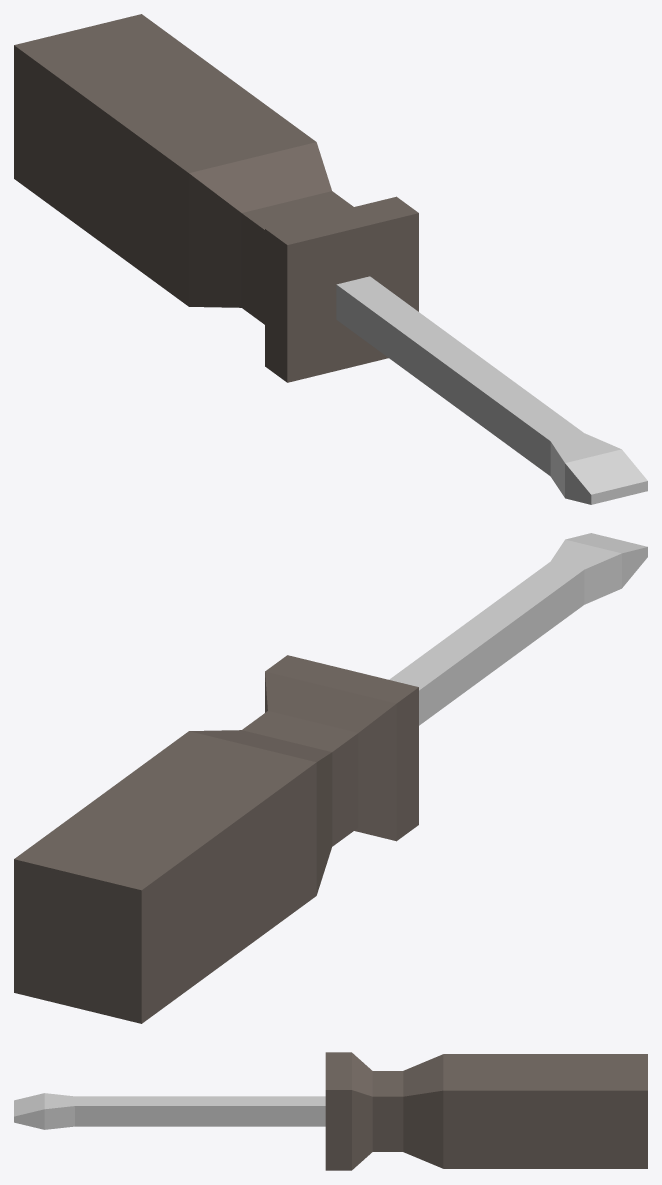
File: Screwdriver_01.fbx
3 views of the same model, one above another, from view 1: azimuth 30°, elevation 25°; view 2: azimuth 150°, elevation 25°; view 3: azimuth 270°, elevation 25° (orthographic). The views are drawn at different scales.
Visible parts, largest first — view 1: ScrewDriver_01; view 2: ScrewDriver_01; view 3: ScrewDriver_01.
Boxes of the visible parts, x1,y1,x2,y2 form: ScrewDriver_01: (14, 14, 647, 504); ScrewDriver_01: (14, 533, 647, 1023); ScrewDriver_01: (14, 1052, 647, 1170).
Size of the model in its own units: 10.58 by 10.58 by 75.45.
